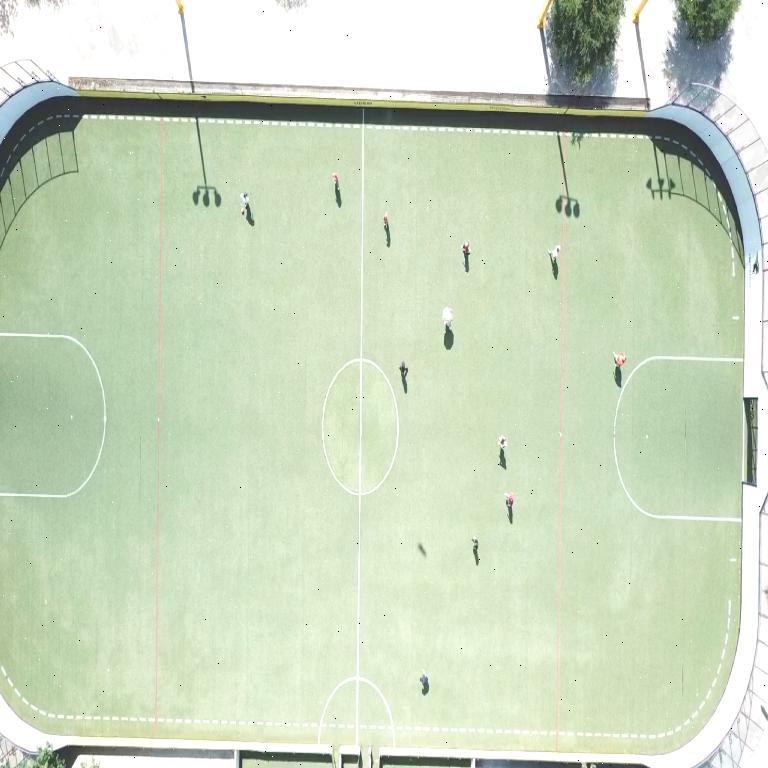AC: (614, 356, 742, 522), (0, 332, 106, 499)
B: (240, 205, 245, 216)
MC: (356, 108, 364, 743)
P: (240, 192, 249, 215), (548, 246, 560, 262), (443, 308, 452, 328), (614, 352, 626, 367), (504, 492, 514, 510), (419, 669, 428, 687), (399, 361, 408, 378), (498, 436, 507, 451), (462, 240, 470, 255), (472, 537, 478, 553), (384, 212, 388, 229), (333, 173, 337, 188)
